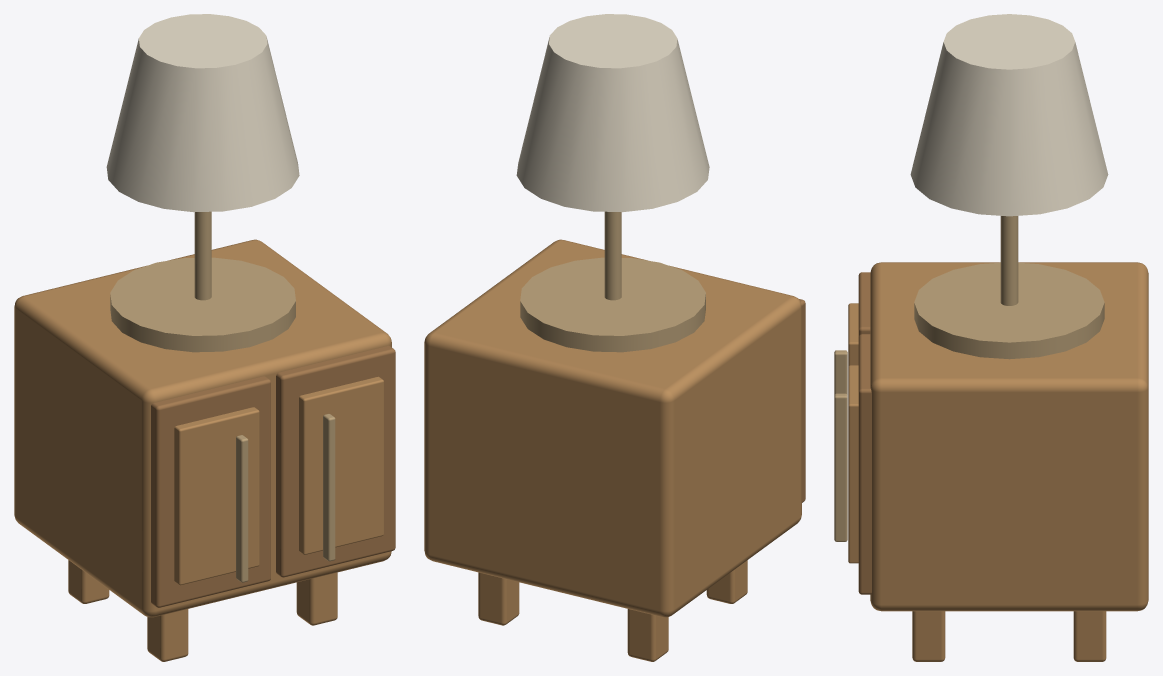
3 views of the same model, side by side, from view 1: azimuth 30°, elevation 25°; view 2: azimuth 150°, elevation 25°; view 3: azimuth 270°, elevation 25° (orthographic).
Parts seen in each view (by area): view 1: Carcass, Linen lampshade, Oak door panel (×2), Recessed door (×2), Lamp base, Tapered leg (×3), Brass handle (×2), Lamp stem; view 2: Carcass, Linen lampshade, Lamp base, Tapered leg (×3), Lamp stem, Recessed door; view 3: Carcass, Linen lampshade, Lamp base, Recessed door (×2), Tapered leg (×2), Oak door panel (×2), Brass handle (×2), Lamp stem.
Part boxes in pixels (bbox=[...]): Carcass: bbox=[14, 239, 391, 617]; Linen lampshade: bbox=[106, 14, 299, 212]; Oak door panel (×2): bbox=[174, 376, 383, 585]; Recessed door (×2): bbox=[151, 345, 395, 607]; Lamp base: bbox=[110, 257, 295, 352]; Tapered leg (×3): bbox=[68, 560, 337, 661]; Brass handle (×2): bbox=[236, 413, 335, 582]; Lamp stem: bbox=[194, 211, 211, 300]; Carcass: bbox=[424, 239, 801, 617]; Linen lampshade: bbox=[516, 14, 709, 212]; Lamp base: bbox=[520, 257, 705, 352]; Tapered leg (×3): bbox=[478, 560, 747, 661]; Lamp stem: bbox=[604, 211, 621, 300]; Recessed door: bbox=[799, 299, 805, 502]; Carcass: bbox=[870, 262, 1148, 611]; Linen lampshade: bbox=[910, 14, 1108, 216]; Lamp base: bbox=[914, 262, 1104, 359]; Recessed door (×2): bbox=[858, 272, 871, 594]; Tapered leg (×2): bbox=[912, 611, 1106, 661]; Oak door panel (×2): bbox=[848, 303, 858, 563]; Brass handle (×2): bbox=[834, 350, 847, 541]; Lamp stem: bbox=[1000, 216, 1018, 305].
Size of the model in its own units: 0.4 by 0.87 by 0.429.
